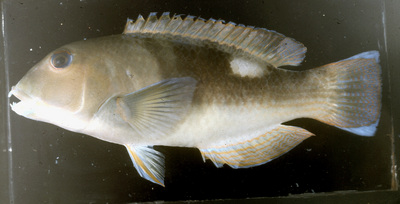fish: (8, 11, 382, 188)
